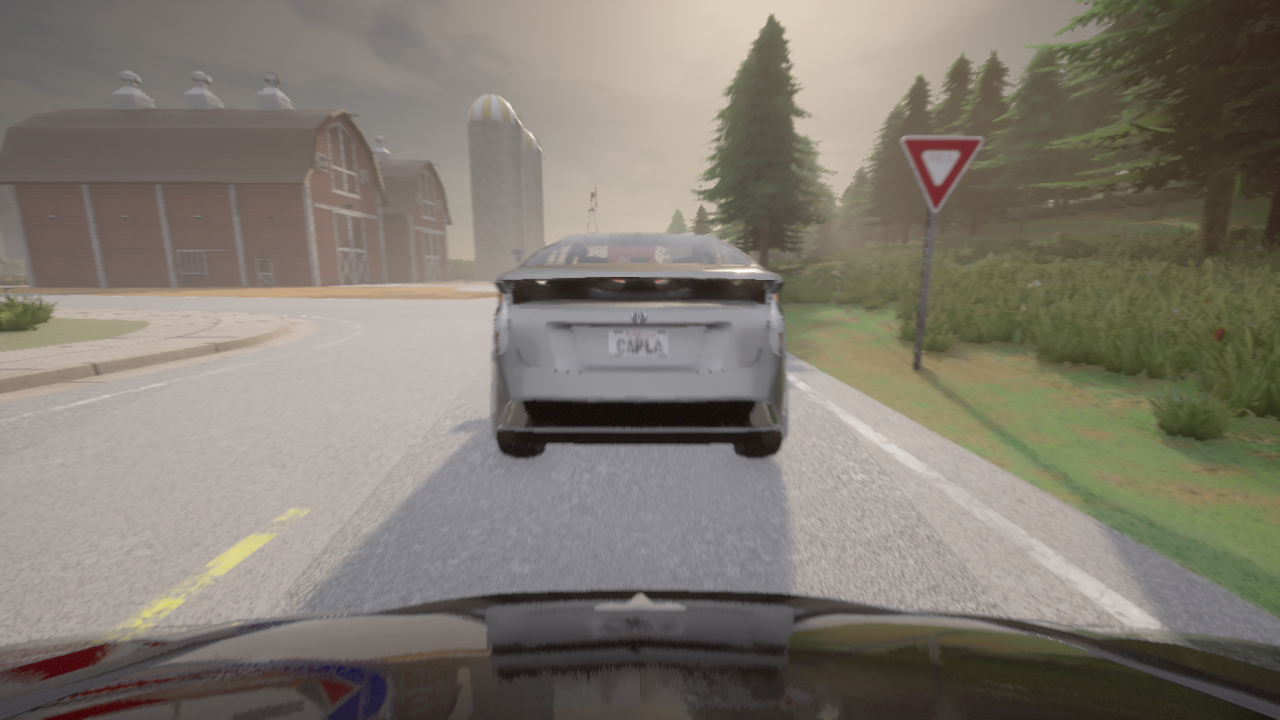cyclist: (0, 588, 1279, 719), (490, 233, 787, 457)
